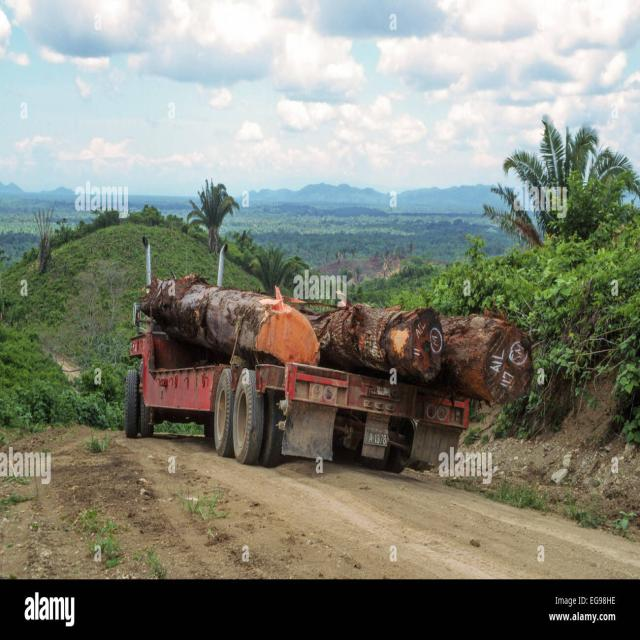Truck: (117, 222, 516, 470)
